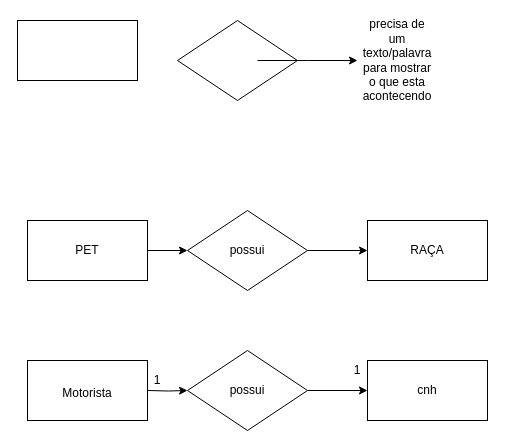
The diagram is 505 pixels wide and 448 high, and some of its shapes have lost their labels. The shapes that lost their labels are listed below. From the top down, each one's centre as x and y in pixels, then its label:
At (x=77, y=50): "retangulo usado para entidades".
At (x=237, y=60): "losango para indentificar relação".
